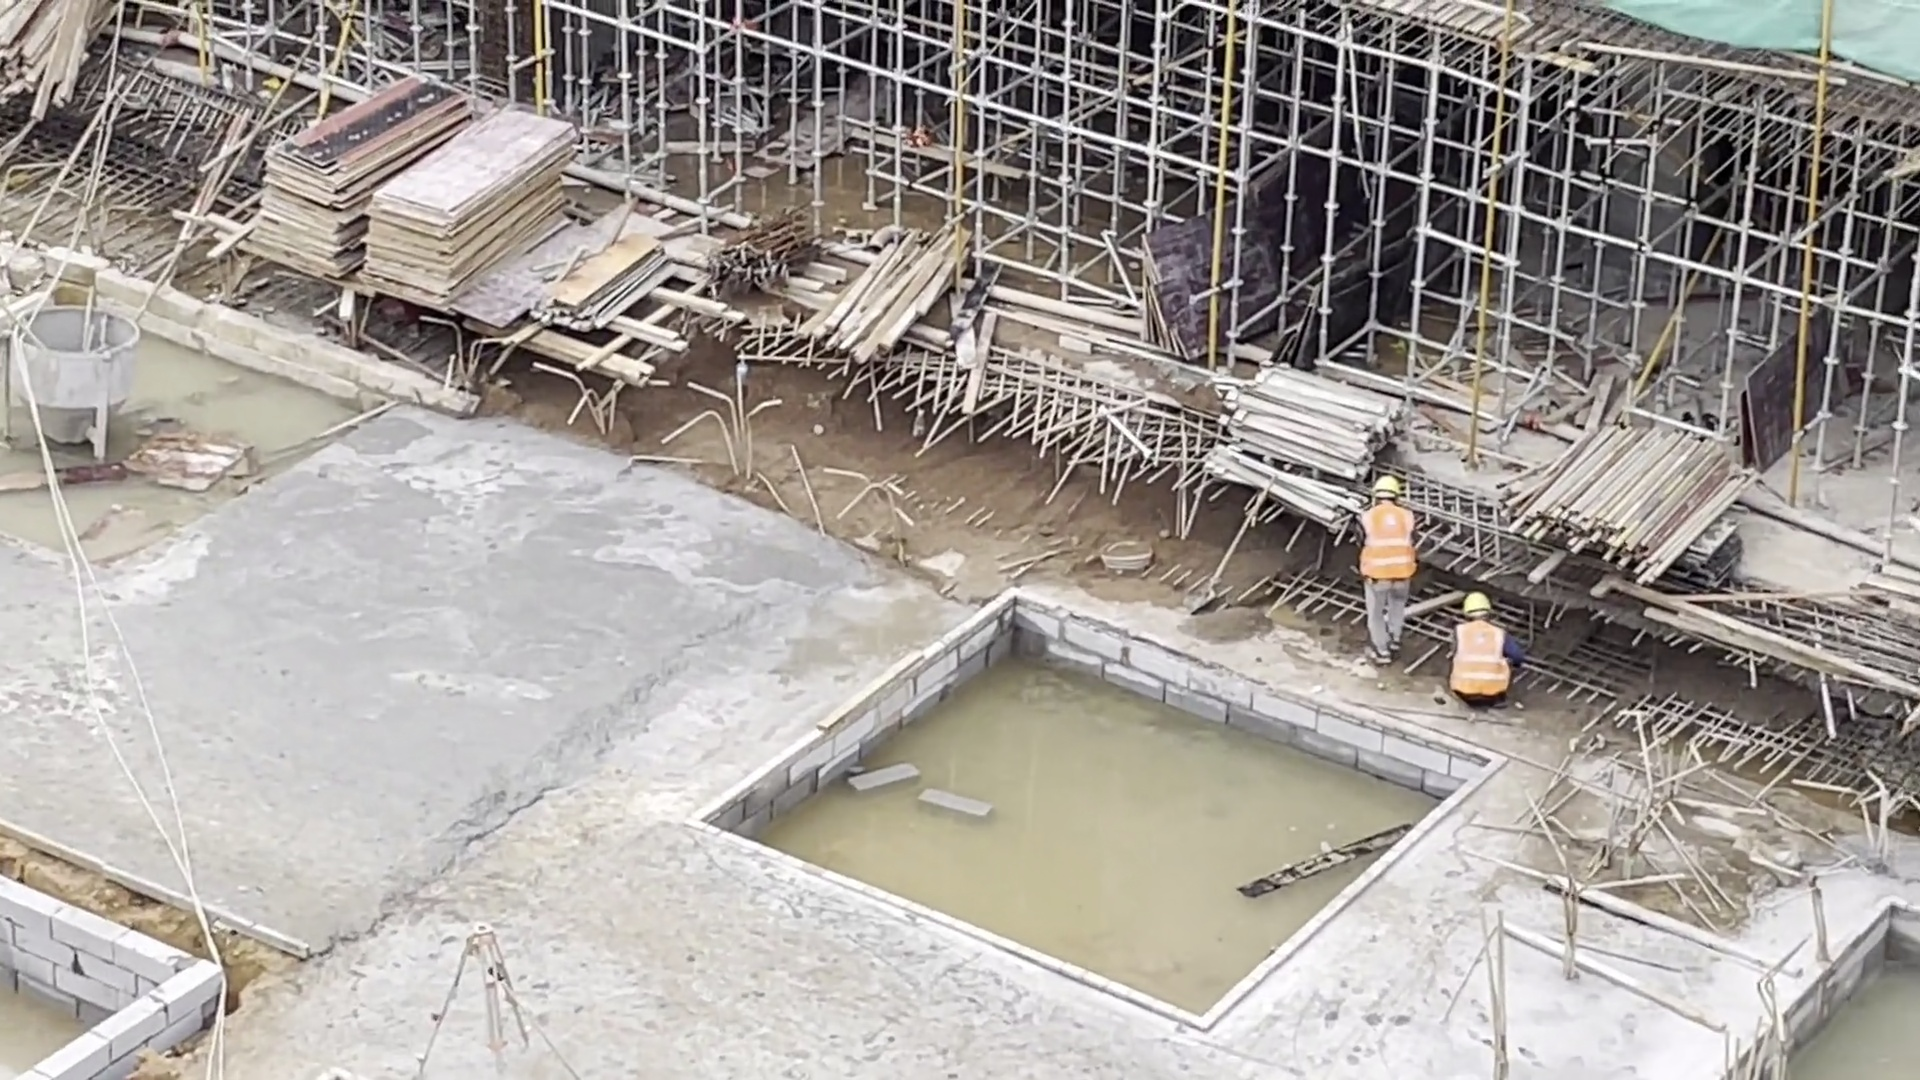board: (257, 72, 473, 276), (366, 105, 578, 306)
helmet: (1462, 590, 1491, 616), (1371, 474, 1401, 495)
person: (1444, 585, 1528, 717), (1364, 476, 1422, 663)
vest: (1449, 616, 1510, 701), (1360, 504, 1415, 580)
wood: (1203, 362, 1406, 525), (800, 223, 975, 374)
